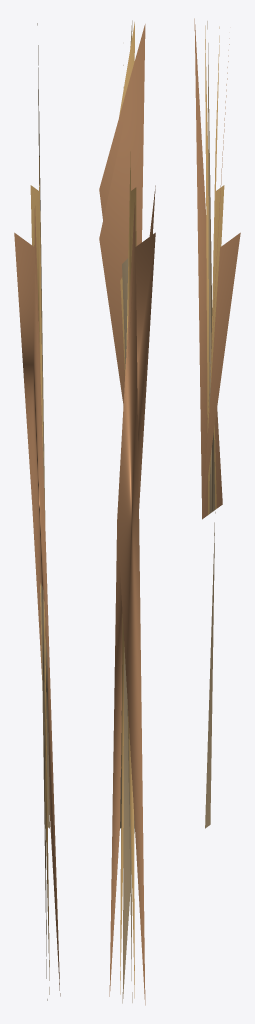
File: equip_weapon_fire_staff.glb
The picture shows the model from 3 angles, left to right: view 1: azimuth 30°, elevation 25°; view 2: azimuth 150°, elevation 25°; view 3: azimuth 330°, elevation 25°; orthographic projection.
Parts seen in each view (by area): view 1: equip_weapon_fire_staff; view 2: equip_weapon_fire_staff; view 3: equip_weapon_fire_staff.
Part boxes in pixels (x1,y1,x2,y2): equip_weapon_fire_staff: [14, 23, 60, 1000]; equip_weapon_fire_staff: [99, 20, 155, 1005]; equip_weapon_fire_staff: [194, 18, 240, 828].
Size of the model in its own units: 0.076 by 2 by 0.076.
